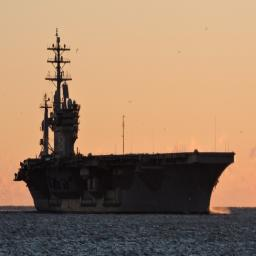Portanaves: (12, 27, 239, 216)
